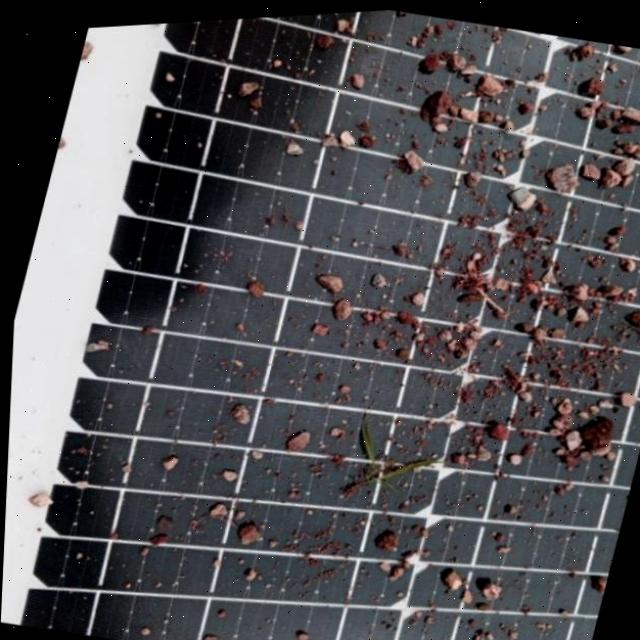Surface Contaminant: (0, 6, 640, 640)
